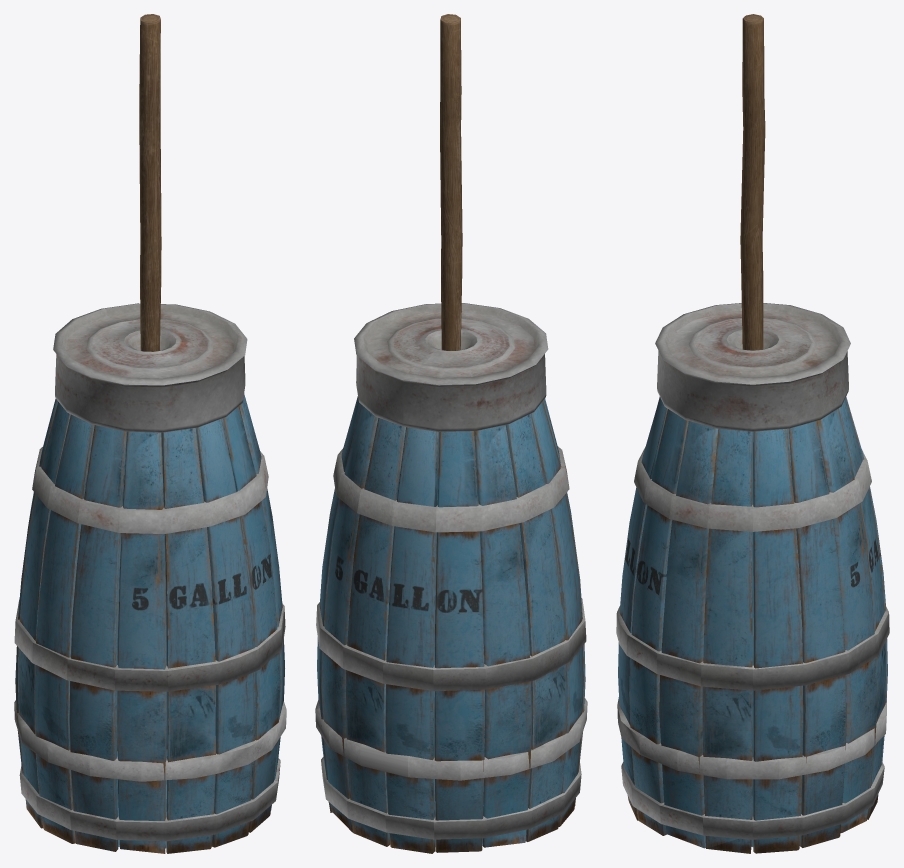
The model's file is Churn.fbx.
The picture shows the model from 3 angles, left to right: view 1: azimuth 30°, elevation 25°; view 2: azimuth 150°, elevation 25°; view 3: azimuth 270°, elevation 25°; orthographic projection.
Visible parts, largest first — view 1: sos_game_play_models:desk_2_low.001, sos_game_play_models:stick_low; view 2: sos_game_play_models:desk_2_low.001, sos_game_play_models:stick_low; view 3: sos_game_play_models:desk_2_low.001, sos_game_play_models:stick_low.
Part boxes in pixels (x1=…): sos_game_play_models:desk_2_low.001: x1=14, y1=303, x2=286, y2=853; sos_game_play_models:stick_low: x1=139, y1=14, x2=161, y2=351; sos_game_play_models:desk_2_low.001: x1=315, y1=303, x2=587, y2=853; sos_game_play_models:stick_low: x1=440, y1=14, x2=462, y2=350; sos_game_play_models:desk_2_low.001: x1=616, y1=303, x2=889, y2=853; sos_game_play_models:stick_low: x1=740, y1=14, x2=765, y2=350.
Bounding box in the file's own units: 14.74 × 46.79 × 14.78.
Materials: 1 (1 with a texture image).
